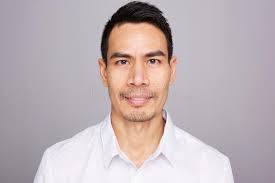asian_male: (95, 10, 179, 130)
